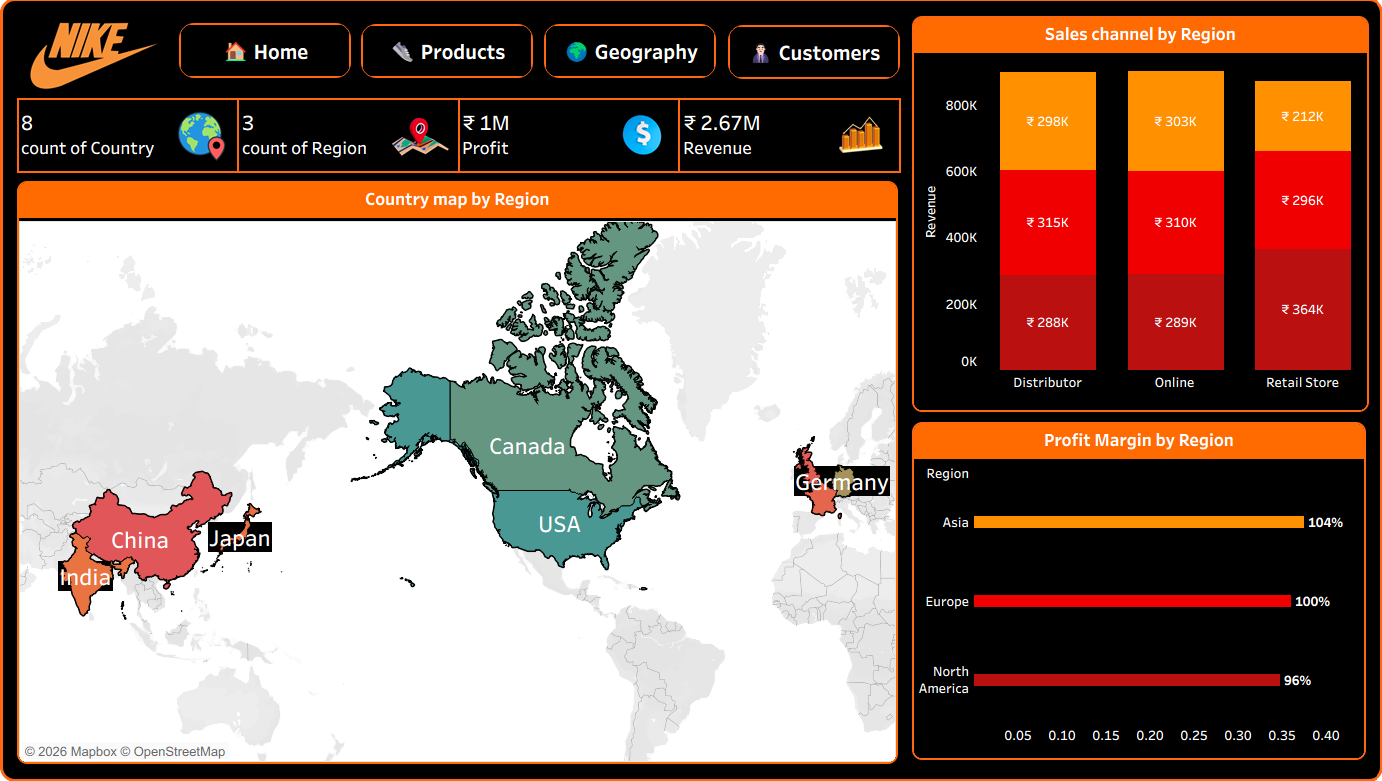

The page's visual inventory and layout, read from the dashboard file:
{"tool":"tableau","page":{"name":"🌍 Geography","canvas":[1400,800],"ordinal":0},"visuals":[{"type":"image","param":"Image/nike-logo-png_seeklogo-99488-removebg-preview.png","box":[19,22,165,81]},{"type":"worksheet","title":"Sales Channel by Region - 3","mark":"Automatic","rows":["Revenue"],"cols":["Sales Channel"],"box":[916,22,465,404]},{"type":"dashboard-object","box":[187,33,172,55]},{"type":"dashboard-object","box":[369,34,172,54]},{"type":"dashboard-object","box":[552,34,172,54]},{"type":"dashboard-object","box":[736,35,172,54]},{"type":"worksheet","title":"KPI CARDS (3)","mark":"Automatic","box":[20,103,894,84]},{"type":"image","param":"Image/Screenshot_2026-06-16_193153-removebg-preview.png","box":[393,113,68,66]},{"type":"image","param":"Image/421081471_db121e62-0b65-4a2b-8329-fd8b86a96f64-removebg-preview.png","box":[618,113,63,64]},{"type":"image","param":"Image/351686995_cfe33d3d-c9b6-45ae-b96b-c2e7d1433fd7-removebg-preview.png","box":[836,115,65,59]},{"type":"image","param":"Image/Screenshot_16-6-2026_194244_www.magnific.com-removebg-preview.png","box":[178,116,62,61]},{"type":"worksheet","title":"Country Map - 3","mark":"Automatic","box":[21,187,889,591]},{"type":"worksheet","title":"Profit Margin by Region -3","mark":"Bar","rows":["Region"],"cols":["Calculation_1726246508015618"],"box":[916,428,462,346]}]}

Visuals, with their boxes in screenshot pixels (x1, y1, x2, y2), scaled from the page's 1400x800 canvas onto the 1382x781 screenshot:
image: select_region(19, 21, 182, 101)
"Sales Channel by Region - 3" worksheet: select_region(904, 21, 1363, 416)
dashboard-object: select_region(185, 32, 354, 86)
dashboard-object: select_region(364, 33, 534, 86)
dashboard-object: select_region(545, 33, 715, 86)
dashboard-object: select_region(727, 34, 896, 87)
"KPI CARDS (3)" worksheet: select_region(20, 101, 902, 183)
image: select_region(388, 110, 455, 175)
image: select_region(610, 110, 672, 173)
image: select_region(825, 112, 889, 170)
image: select_region(176, 113, 237, 173)
"Country Map - 3" worksheet: select_region(21, 183, 898, 760)
"Profit Margin by Region -3" worksheet (Bar marks): select_region(904, 418, 1360, 756)
